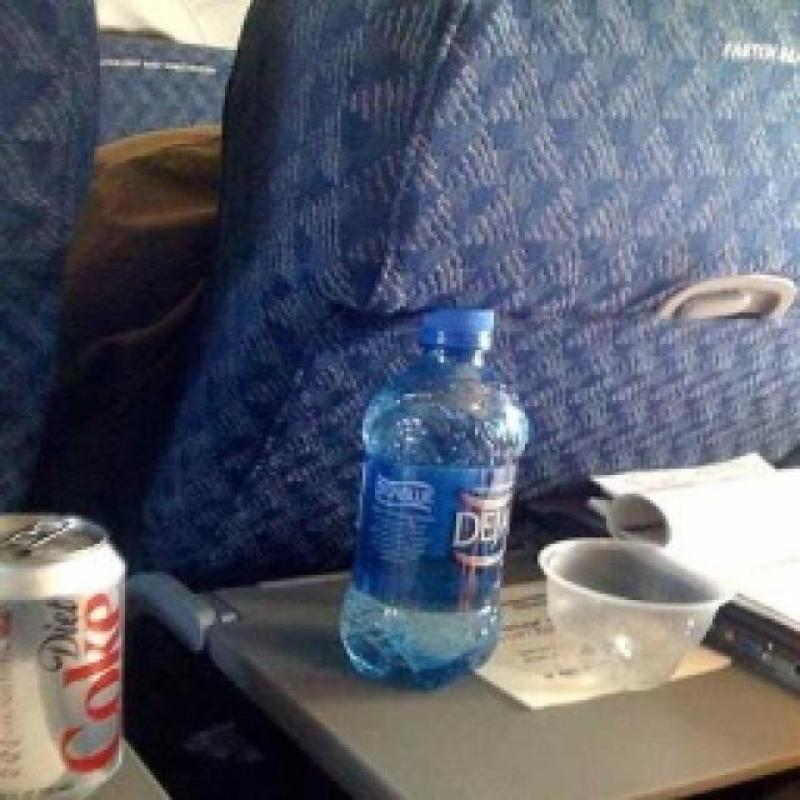botella: (339, 310, 533, 688)
